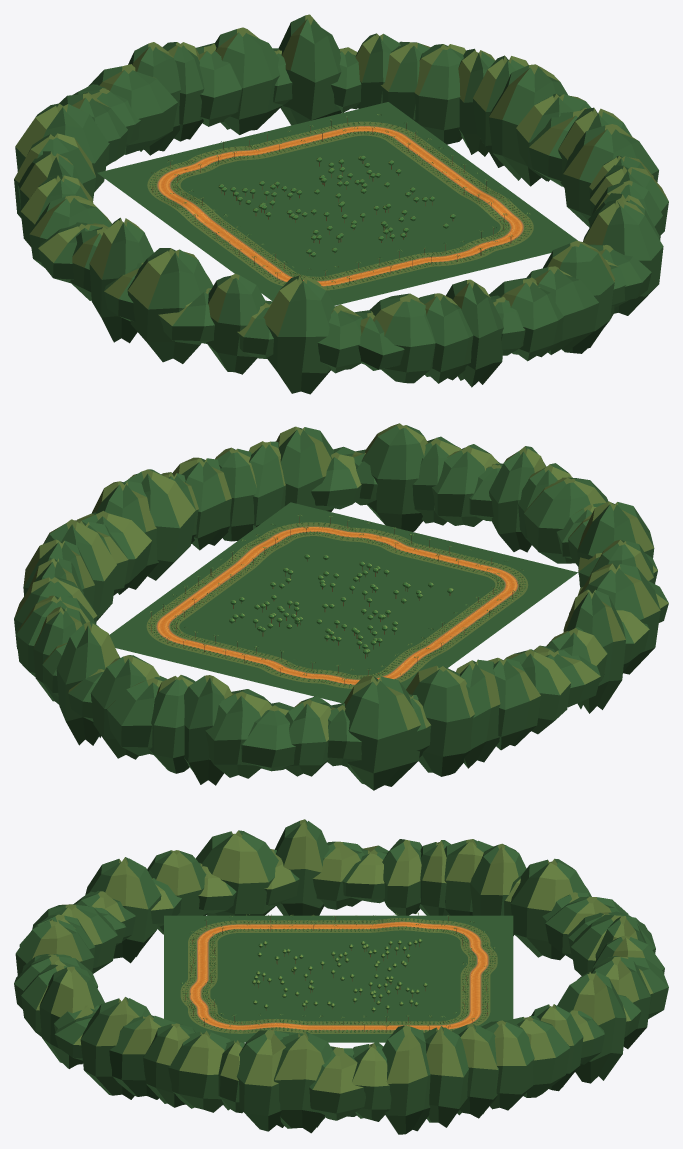
Rendered from Salento.glb.
3 renders of one model, top to bottom at view 1: azimuth 30°, elevation 25°; view 2: azimuth 150°, elevation 25°; view 3: azimuth 270°, elevation 25°, orthographic. The views are drawn at different scales.
Visible parts, largest first — view 1: Ladera, Via; view 2: Ladera, Via; view 3: Ladera, Via.
Boxes of the visible parts, box(x1,y1,x2,y2) form: Ladera: box(14, 14, 668, 394); Via: box(158, 126, 522, 285); Ladera: box(14, 423, 668, 790); Via: box(157, 527, 517, 684); Ladera: box(14, 819, 668, 1134); Via: box(190, 922, 487, 1029).
Bounding box in the file's own units: 581 × 121 × 664.
2 materials, 2 textured.
